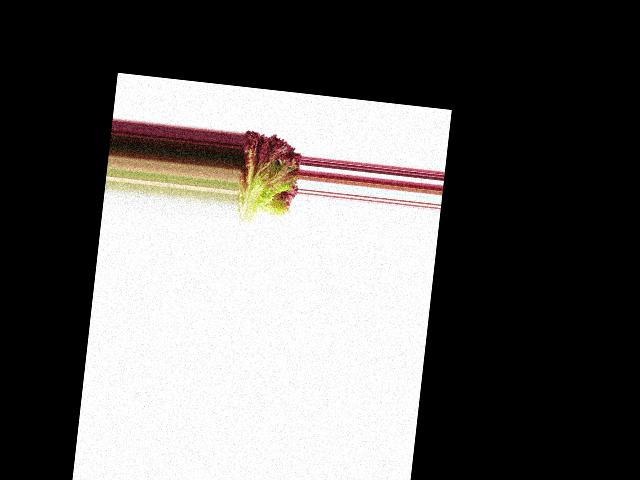lettuce: (234, 124, 303, 230)
